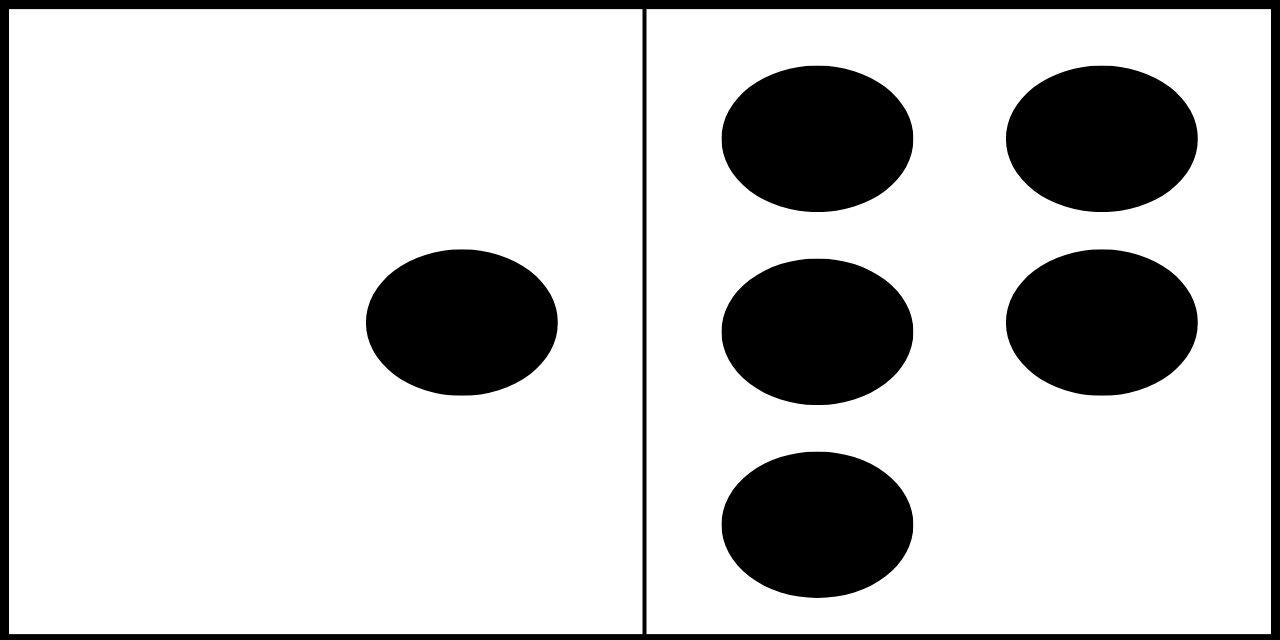dot_5: (75, 67, 557, 586)
two_cell_alphabet_kislap: (722, 64, 1201, 598)
